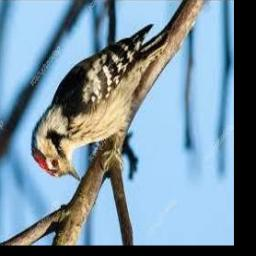Woodpecker: (31, 24, 169, 182)
